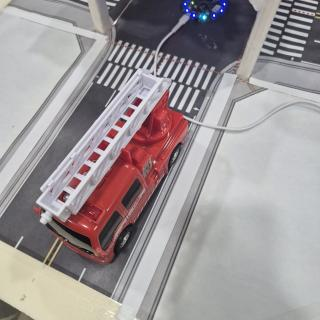Fire_truck: (34, 68, 188, 264)
